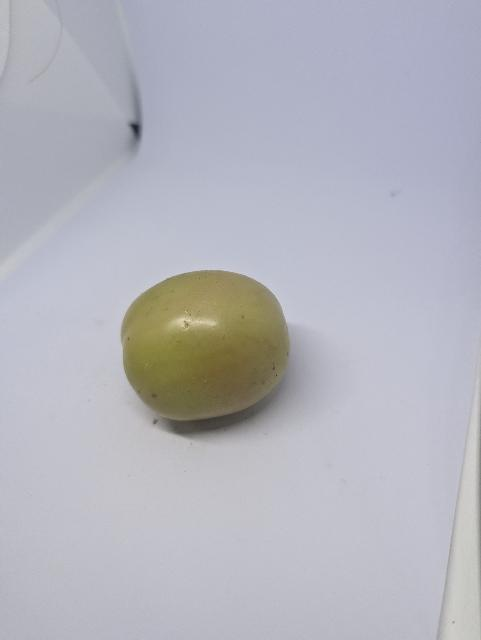breaker: (119, 268, 293, 433)
